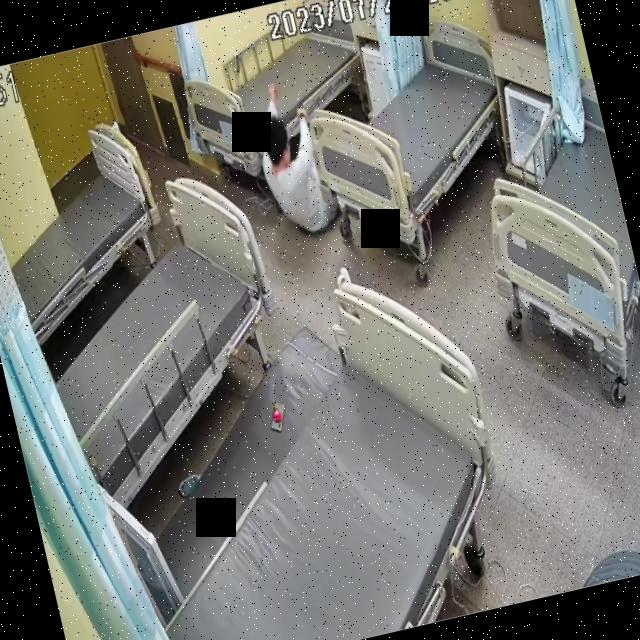bed: (99, 269, 521, 640), (12, 168, 306, 507), (459, 74, 640, 390), (289, 18, 522, 238), (0, 115, 180, 343), (178, 3, 379, 183)
fall: (237, 75, 334, 236)
patient: (237, 75, 337, 243)
